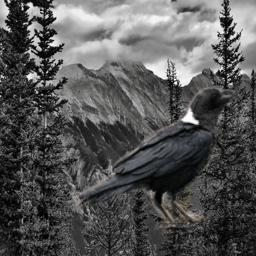Crow: (73, 82, 243, 230)
